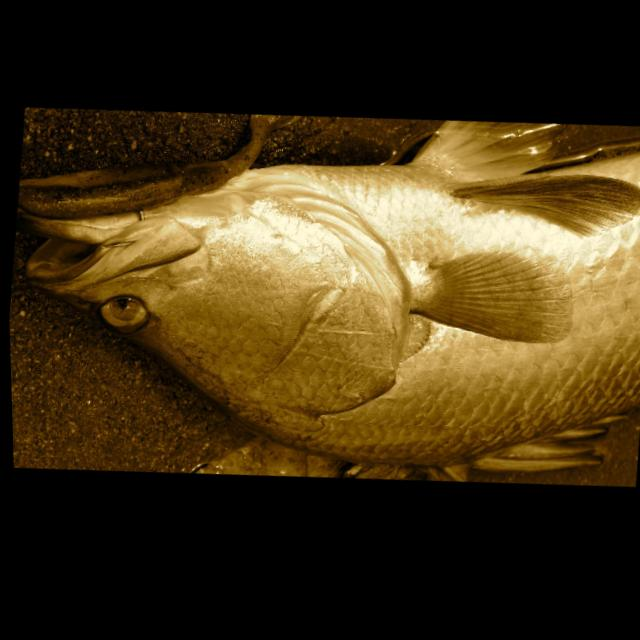Seabass: (3, 61, 640, 523)
